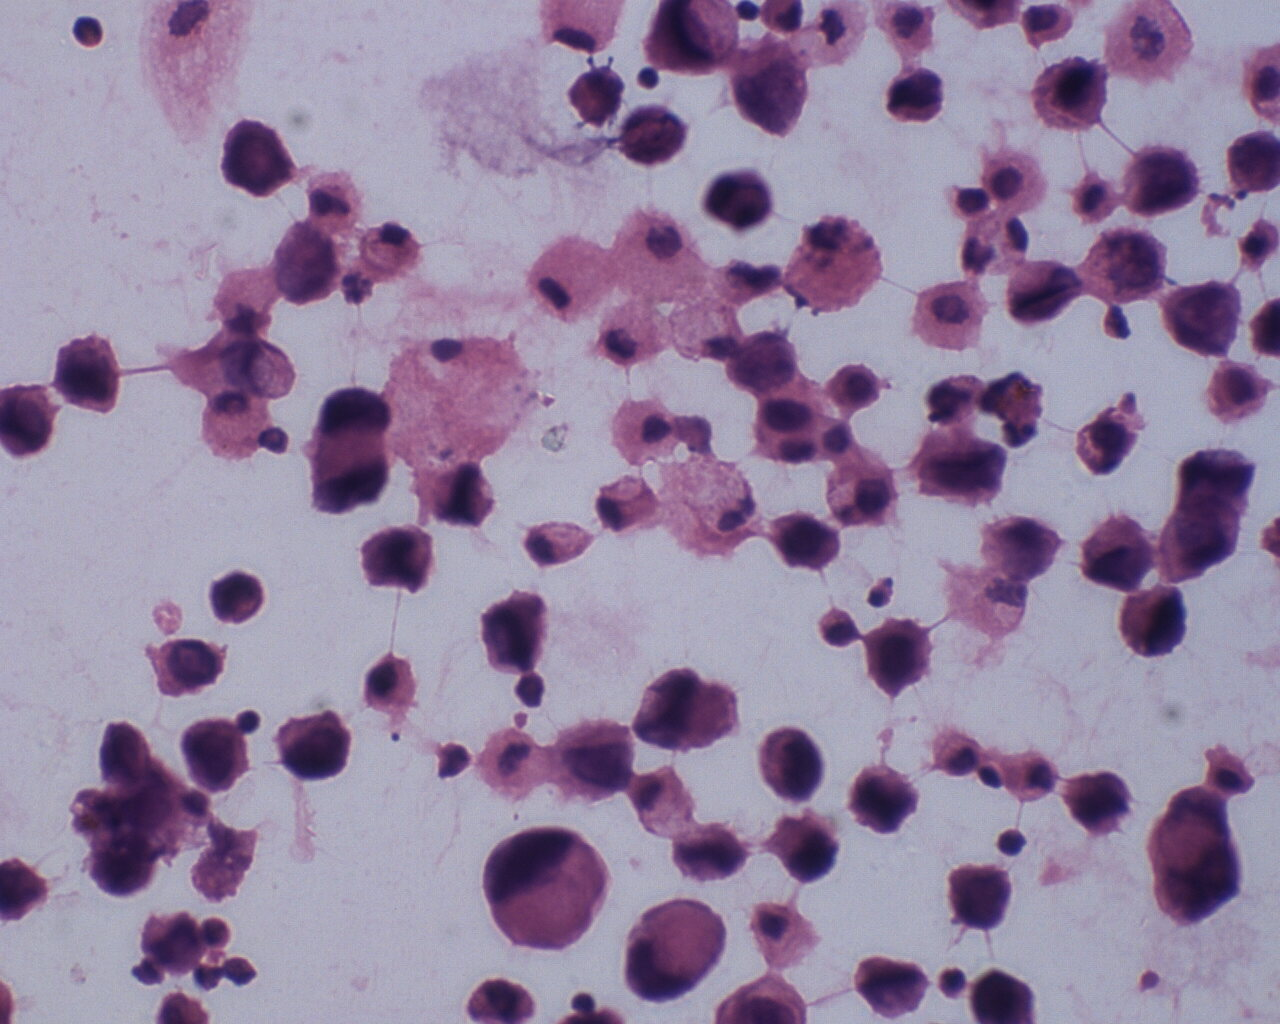ab: (1157, 275, 1249, 362), (908, 427, 1009, 505), (759, 806, 841, 888), (1079, 511, 1163, 592), (216, 118, 306, 193), (1117, 142, 1204, 218), (1056, 763, 1138, 843), (755, 720, 831, 805), (1002, 255, 1086, 330), (269, 708, 353, 783), (53, 334, 127, 418), (137, 636, 229, 703), (848, 951, 937, 1020), (942, 857, 1017, 937), (864, 612, 934, 697), (178, 715, 251, 793), (354, 522, 432, 596), (766, 506, 846, 574), (1117, 582, 1186, 660), (851, 760, 920, 835), (882, 61, 948, 127), (204, 569, 275, 630)
histo: (387, 328, 538, 470), (481, 823, 616, 952), (621, 892, 730, 1003), (523, 234, 618, 328), (611, 207, 706, 299), (197, 385, 274, 462), (609, 395, 681, 467)
meso: (911, 275, 990, 356), (980, 147, 1054, 222), (357, 649, 426, 716), (830, 356, 885, 416)
